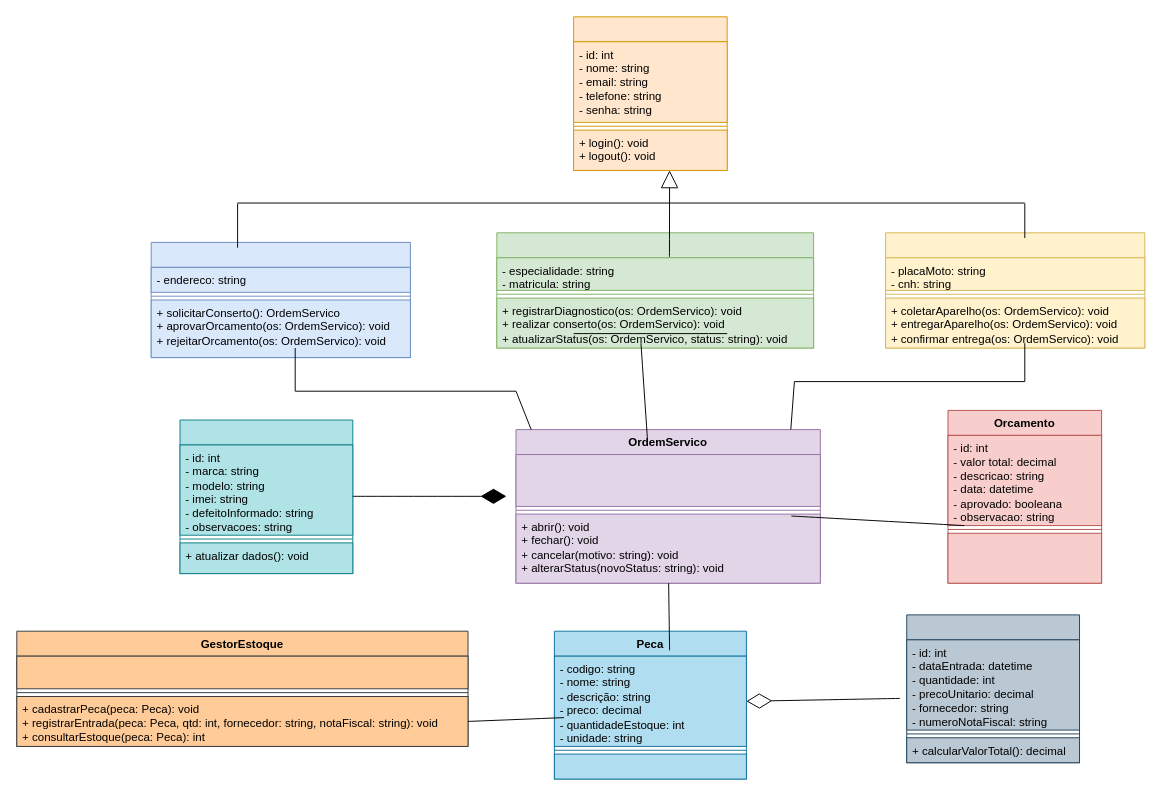
Some shapes in this 1162 by 799 pixel diagram are drawn without their labels. The shapes that lost their labels are listed below. From the top down, each one's box as (x1, y1, x2, y2) in pixels, then its label:
(573, 16, 727, 170): Usuario
(150, 241, 410, 358): Cliente
(496, 232, 814, 348): Tecnico
(885, 232, 1145, 348): Entregador
(179, 419, 353, 574): Dispositivo
(515, 454, 820, 506): - numero: string - dataAbertura: datetime - status: string
(947, 532, 1102, 583): + gerar(): void + aprovar(): void + rejeitar(): void
(16, 655, 468, 689): - setor: string - cargo: string
(906, 614, 1080, 763): LoteEntrada
(553, 753, 746, 779): + atualizarEstoque(qtd: int): void
